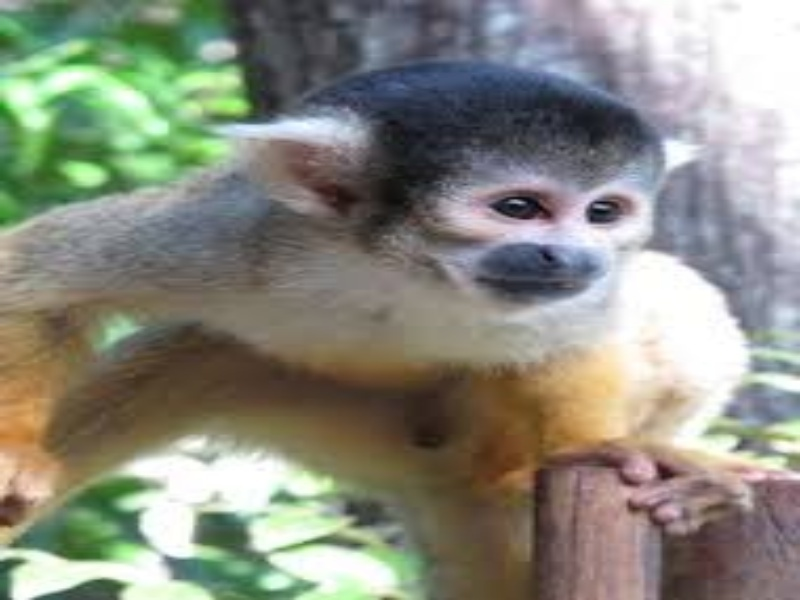monkey: (5, 58, 779, 542)
